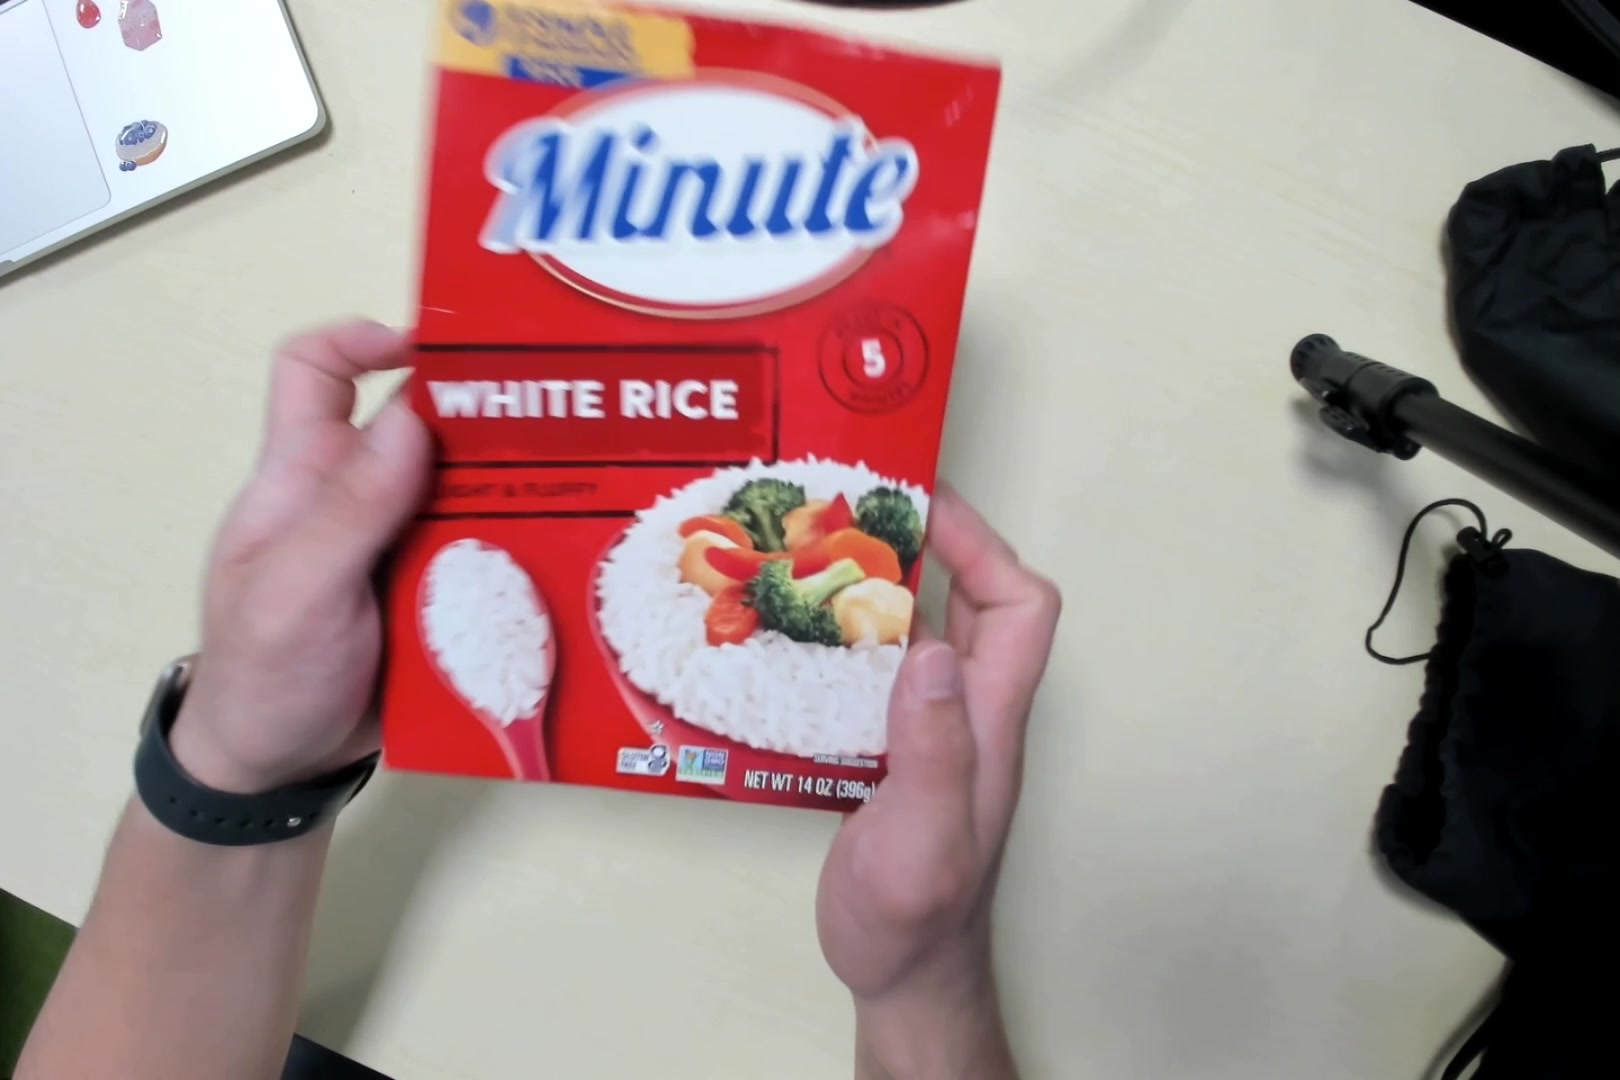Rice(White)_300-399g_NonHalal_NonHealthy: (389, 1, 993, 814)
